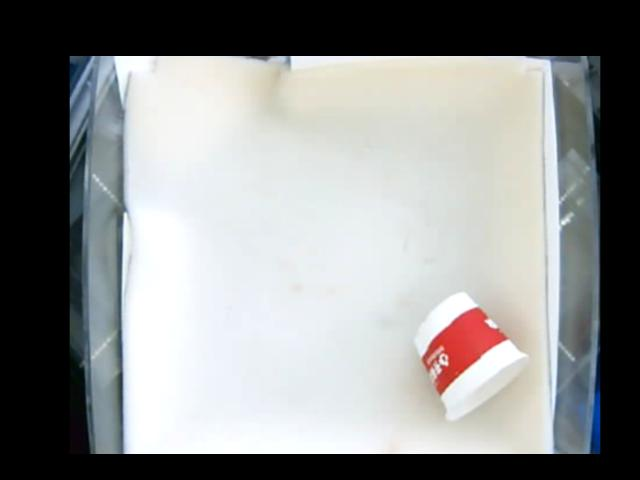Cup: (413, 290, 529, 420)
